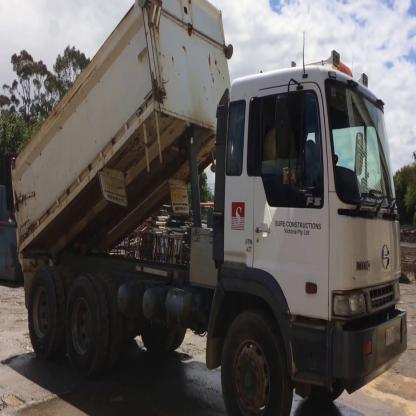dump_truck: (8, 2, 406, 415)
